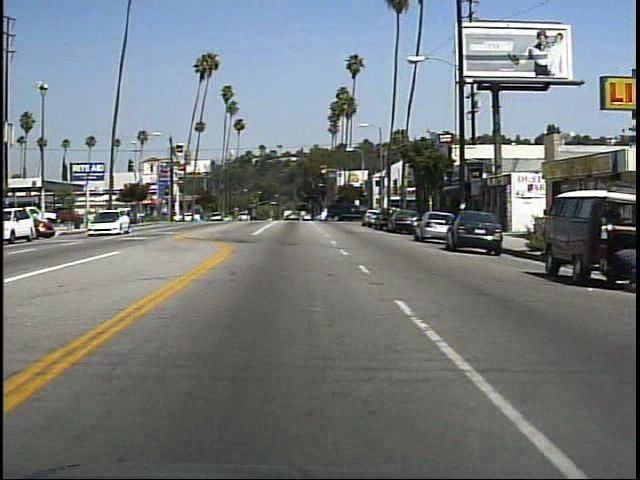person: (601, 240, 637, 292)
